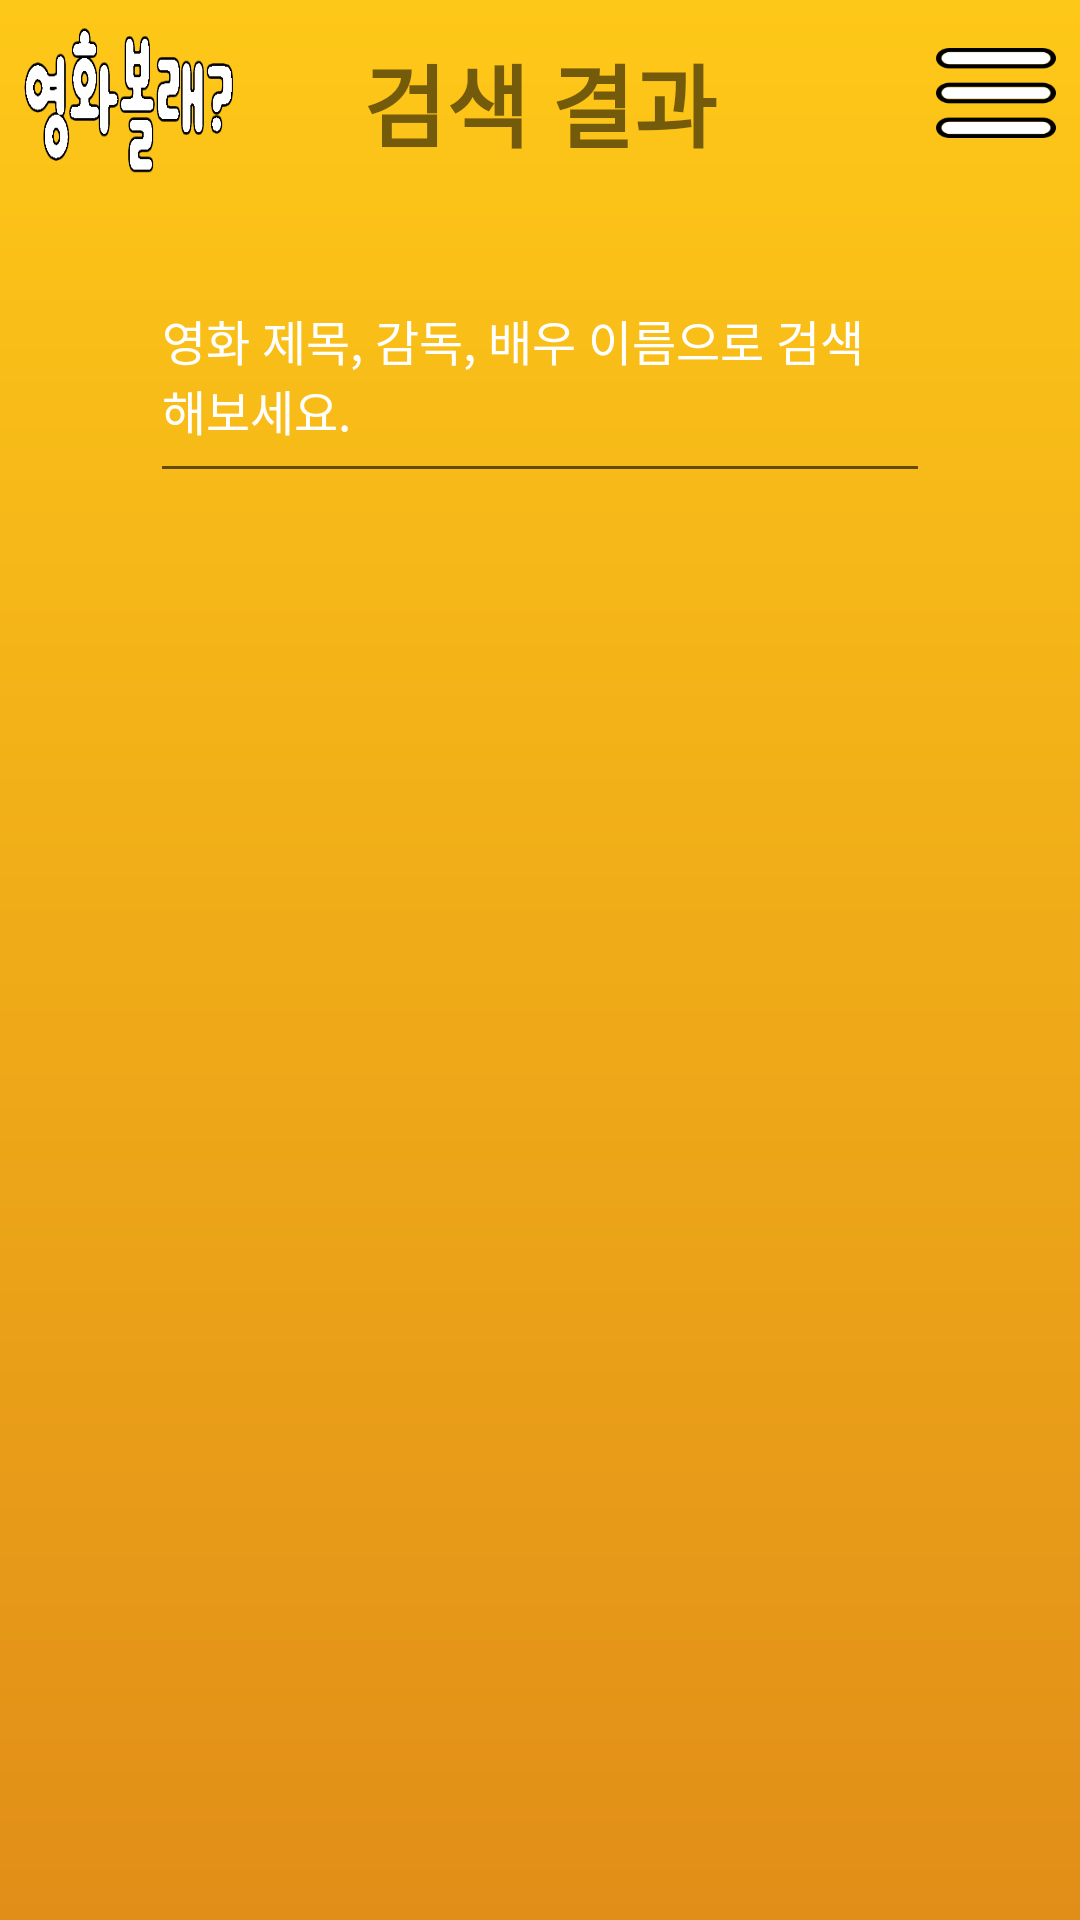

Icon click points for this 1080 x 1920 phone screenshot, format point (x, y):
bar: point (996, 93)
